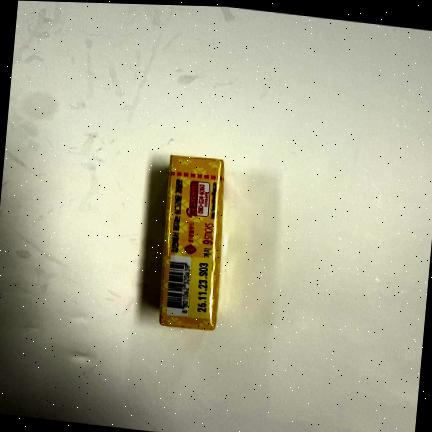gum_yellow: (162, 156, 226, 330)
